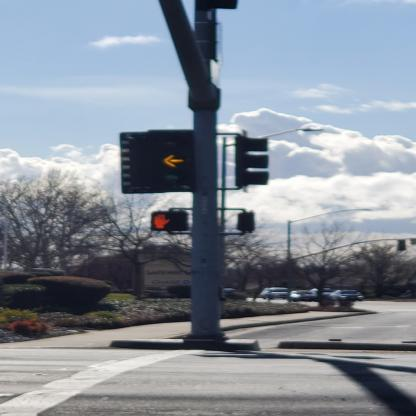left-yellow: (152, 131, 196, 191)
